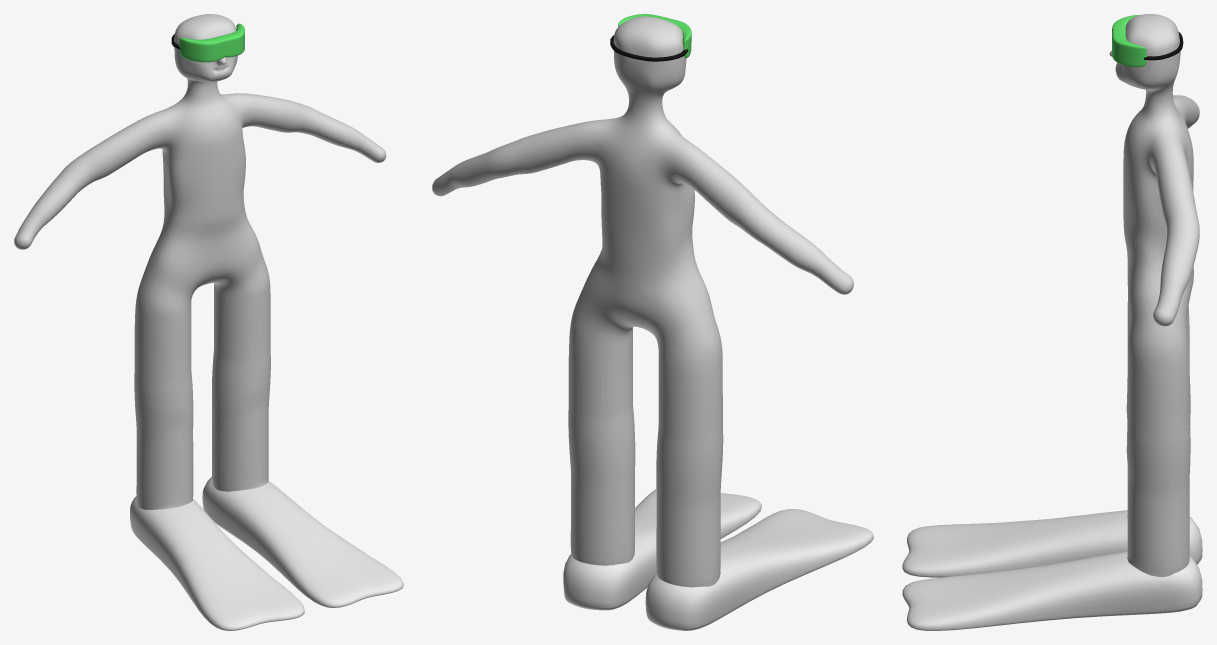
File: diver_lp.fbx
3 views of the same model, side by side, from view 1: azimuth 30°, elevation 25°; view 2: azimuth 150°, elevation 25°; view 3: azimuth 270°, elevation 25° (orthographic). The views are drawn at different scales.
Parts seen in each view (by area): view 1: diver_lp, flipper.001, flipper, mask; view 2: diver_lp, flipper, flipper.001; view 3: diver_lp, flipper.001, flipper, mask.
Part boxes in pixels (bbox=[...]): diver_lp: bbox=[14, 14, 386, 509]; flipper.001: bbox=[202, 477, 403, 607]; flipper: bbox=[130, 496, 304, 630]; mask: bbox=[179, 23, 244, 62]; diver_lp: bbox=[432, 16, 853, 587]; flipper: bbox=[645, 509, 873, 630]; flipper.001: bbox=[563, 489, 761, 610]; diver_lp: bbox=[1109, 14, 1199, 577]; flipper.001: bbox=[902, 551, 1202, 630]; flipper: bbox=[902, 510, 1202, 577]; mask: bbox=[1112, 15, 1146, 67].
Bounding box in the file's own units: 151 × 200 × 96.79.
